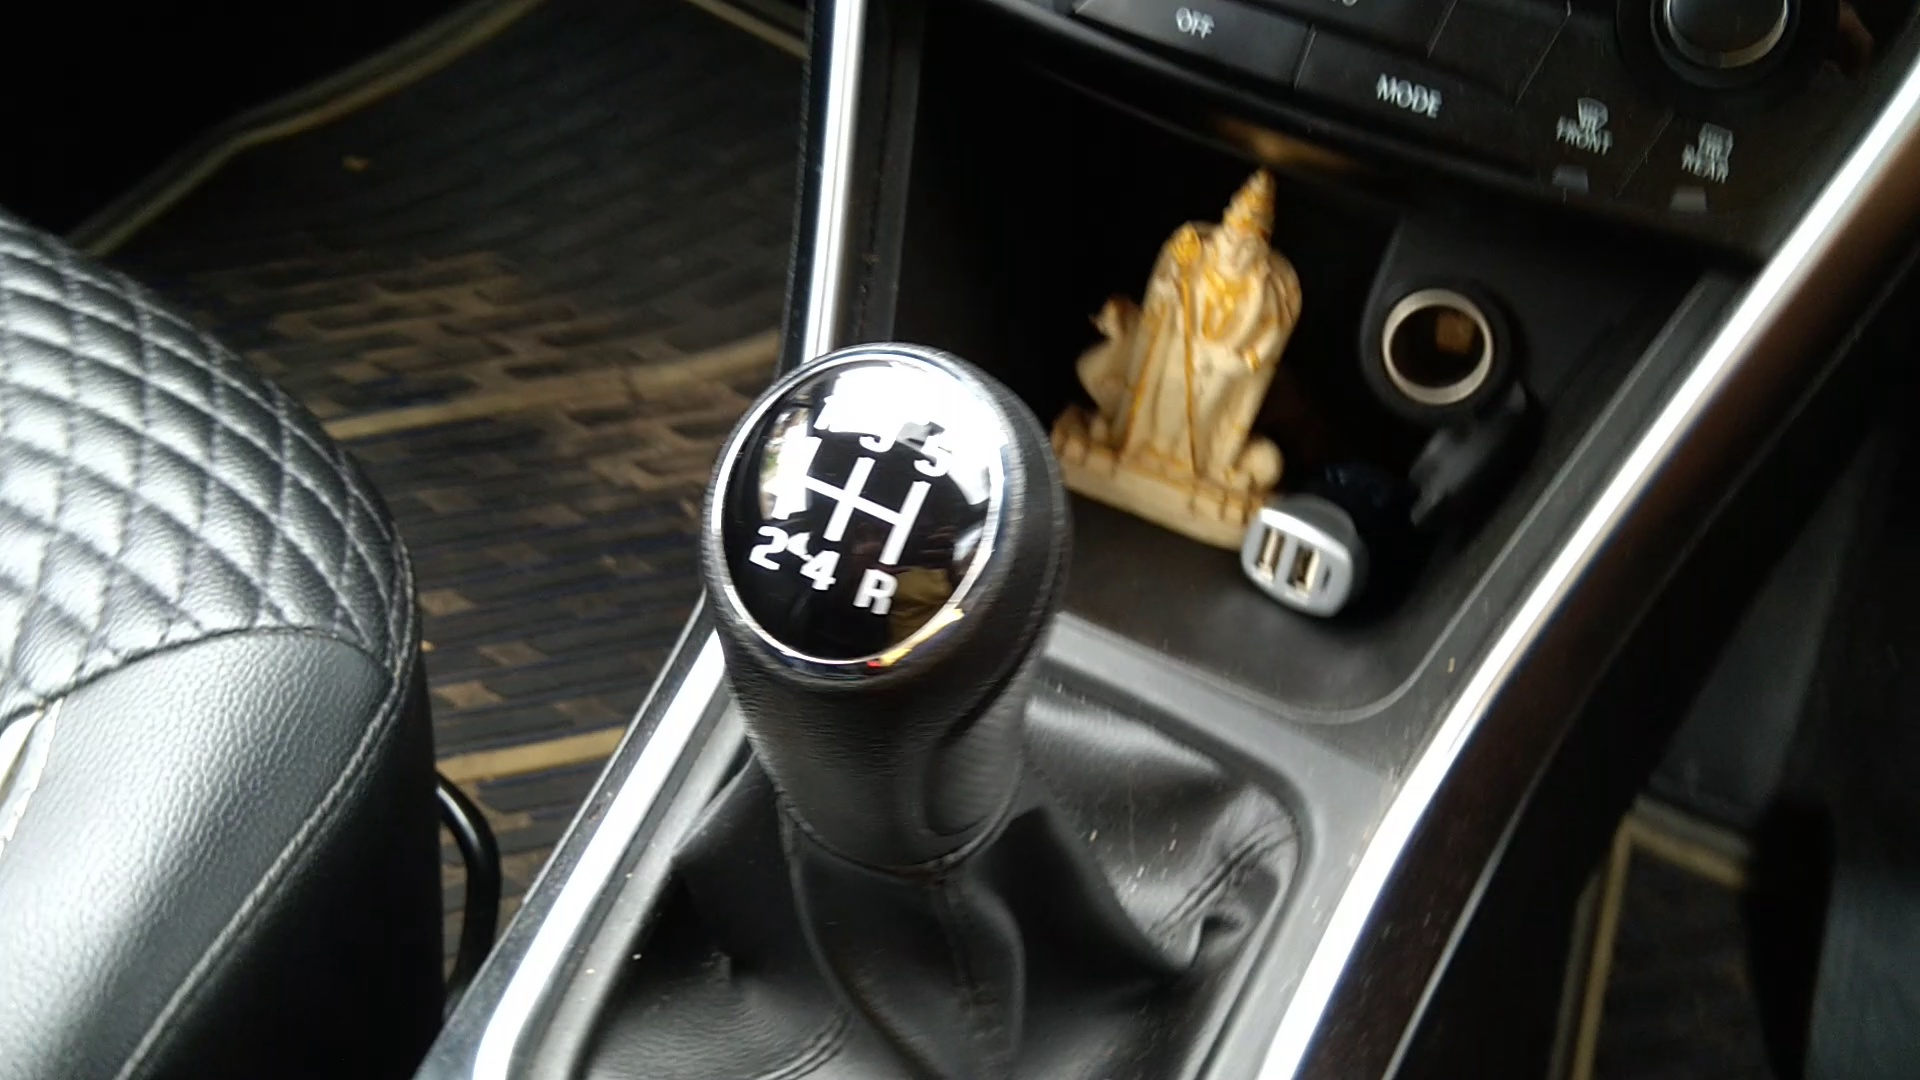manual_gear: (694, 316, 1064, 932)
